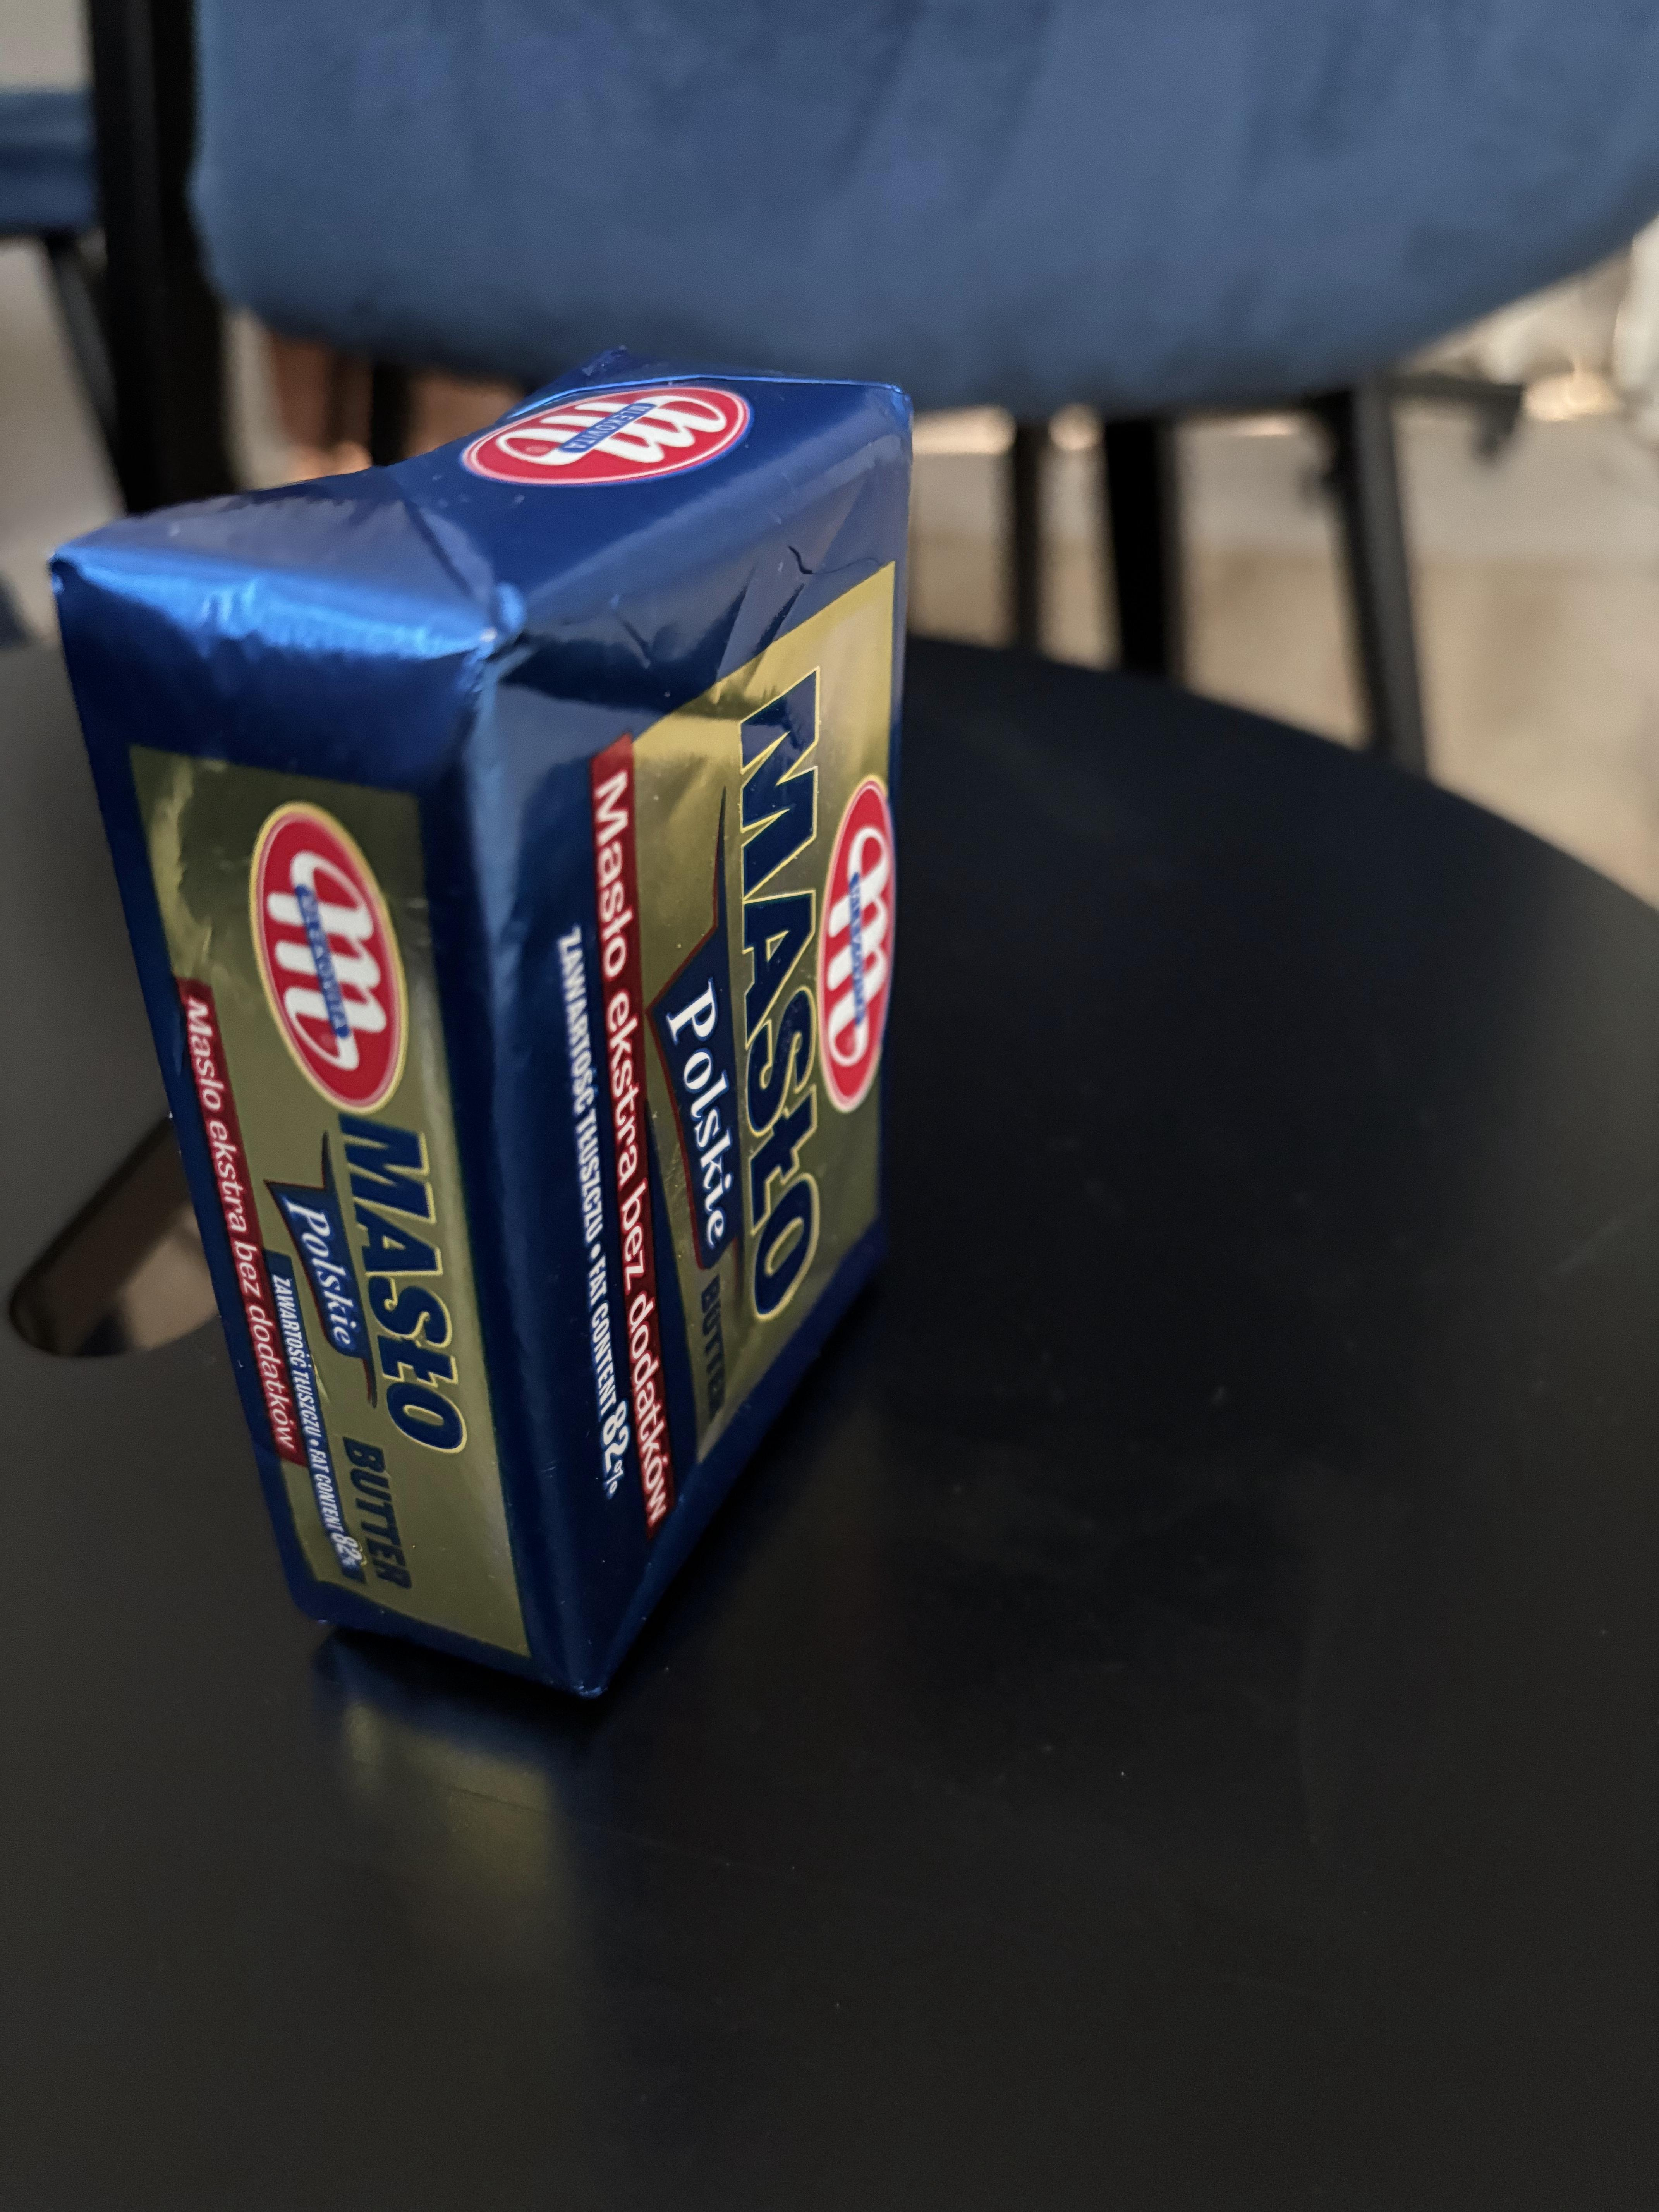Butter: (138, 505, 924, 1578)
